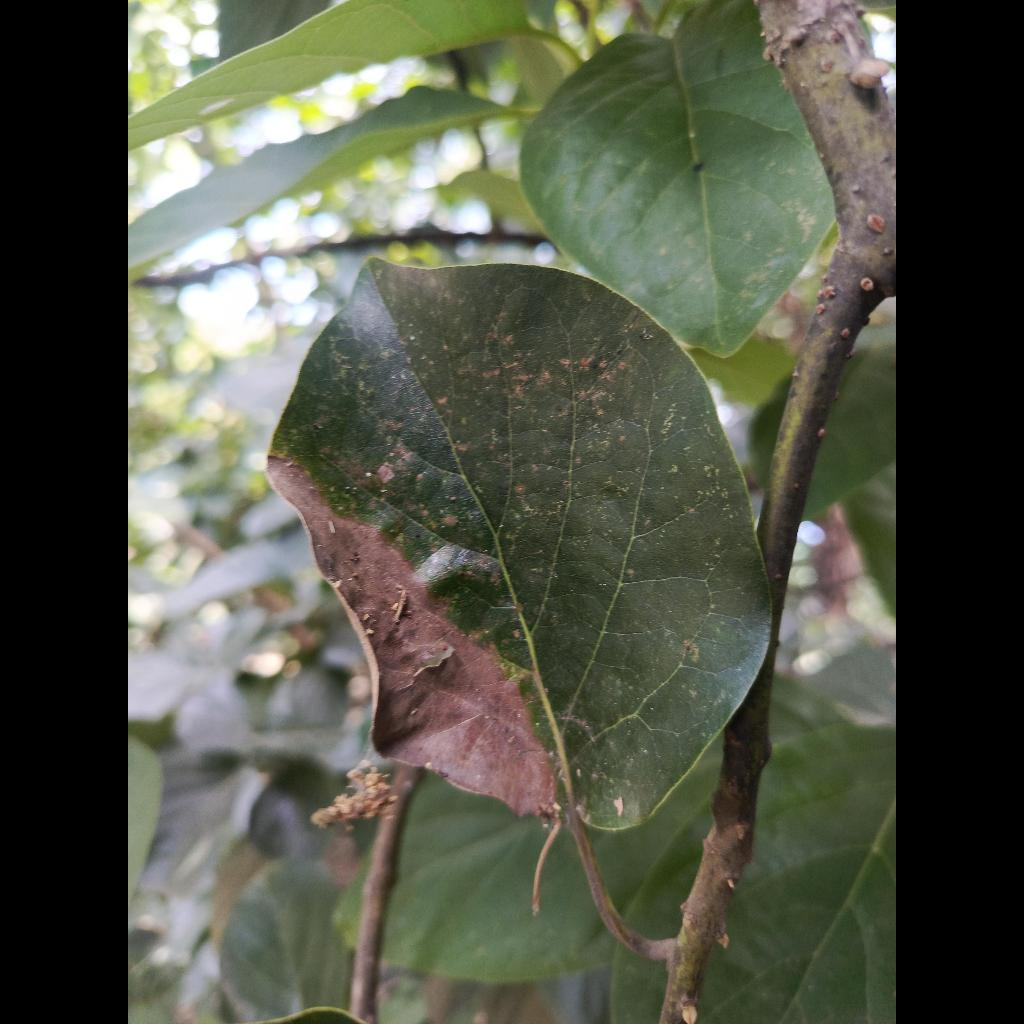antracnosis_hoja: (269, 259, 769, 829)
